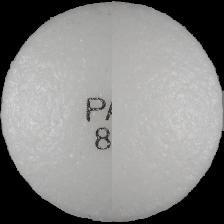21695-699: (0, 0, 224, 224)
